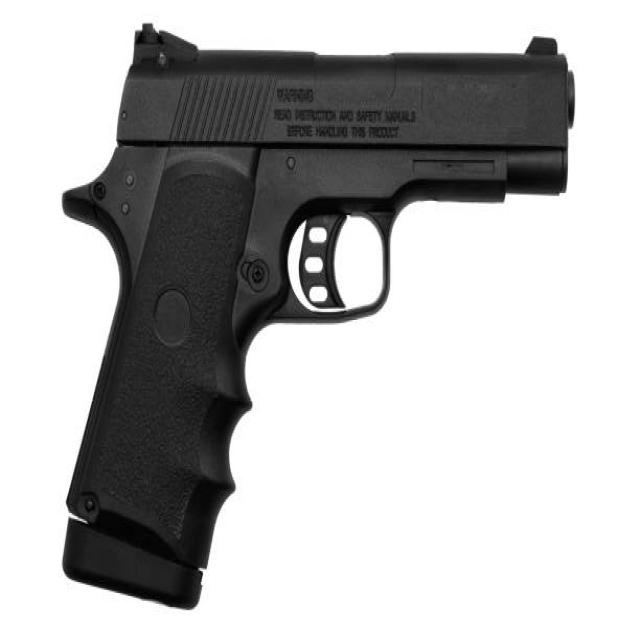pistol: (43, 14, 582, 620)
